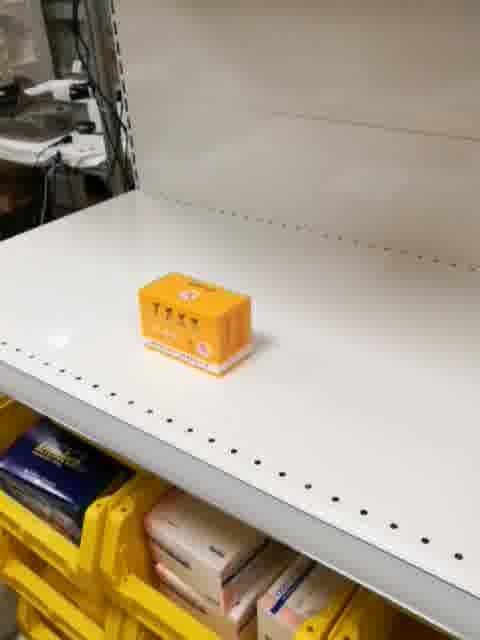jasminetea: (138, 271, 252, 377)
